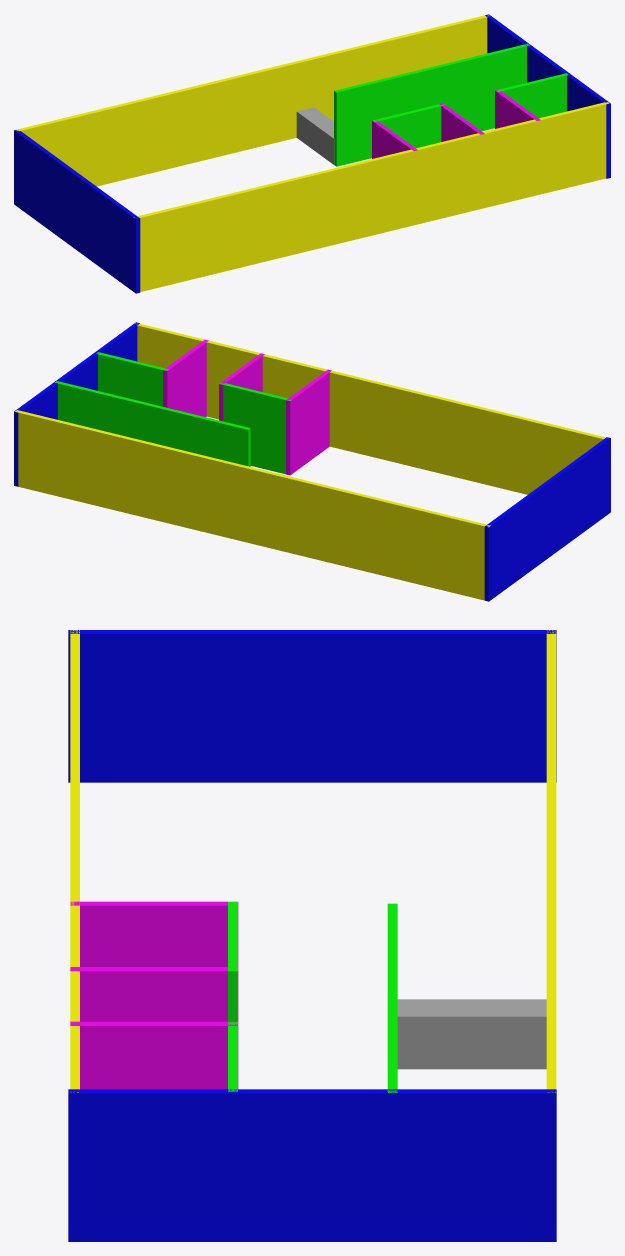
File: arcadewalls.fbx
3 renders of one model, top to bottom at view 1: azimuth 30°, elevation 25°; view 2: azimuth 150°, elevation 25°; view 3: azimuth 270°, elevation 25°, orthographic. The views are drawn at different scales.
Visible parts, largest first — view 1: wall14; view 2: wall14; view 3: wall14.
Boxes of the visible parts, x1=… form: wall14: x1=14, y1=14, x2=610, y2=293; wall14: x1=14, y1=322, x2=610, y2=601; wall14: x1=68, y1=630, x2=556, y2=1241.
Size of the model in its own units: 5496 by 820 by 2446.
